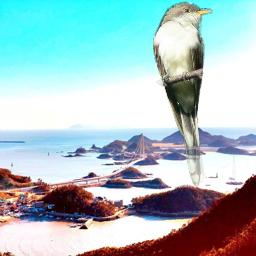Cuckoo: (153, 1, 213, 187)
